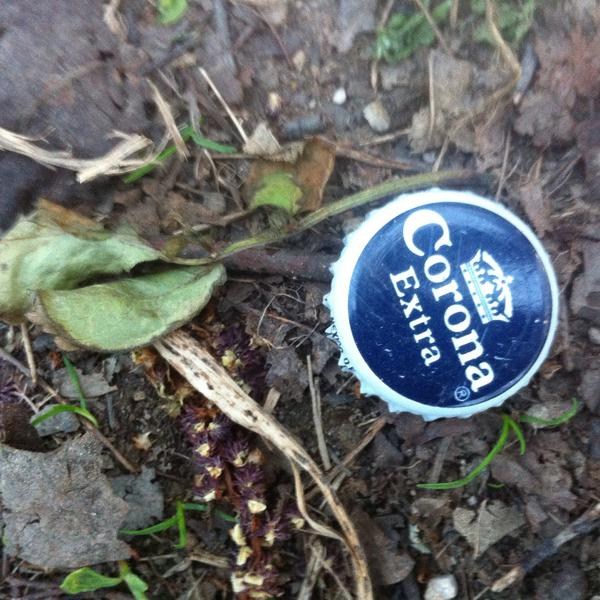corona: (324, 181, 565, 423)
